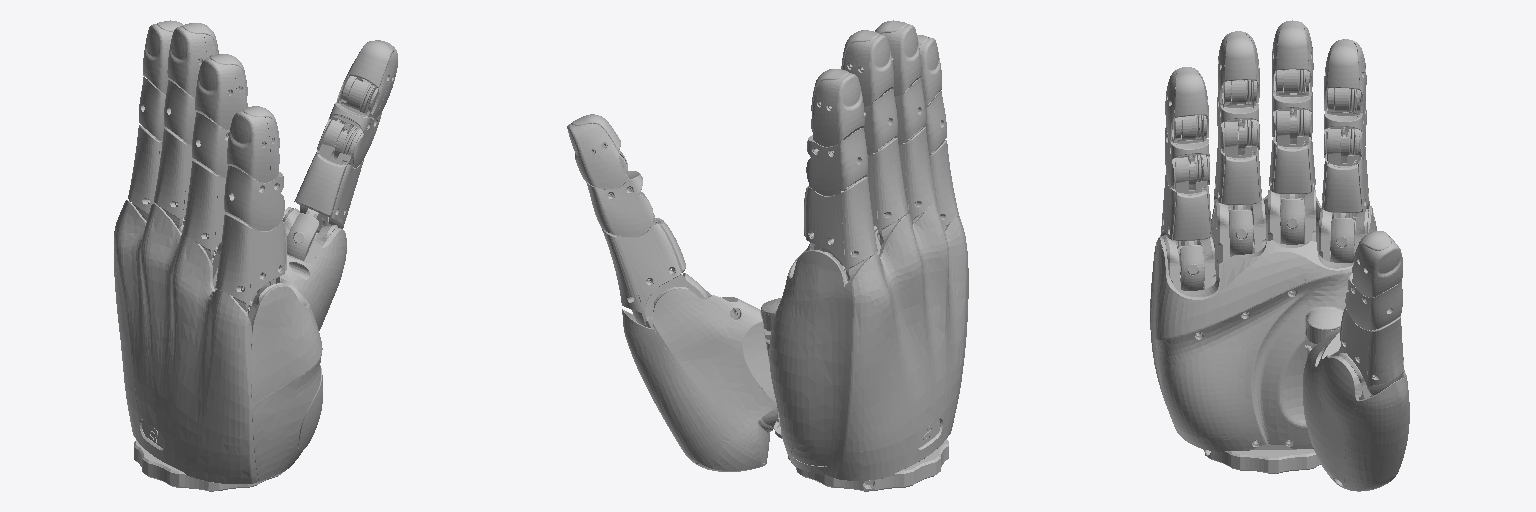
--- Facts derived from the render (not from the file) ---
Views: 3 orthographic renders of the robot side by side, from view 1: azimuth 30°, elevation 25°; view 2: azimuth 150°, elevation 25°; view 3: azimuth 270°, elevation 25°.
Robot: Right-adof — 22 links, 21 joints (21 revolute); root link base_link; default pose: every joint at zero.
Links seen in each view (by area): view 1: base_link, Thumb-Phalanx-Yaw, Pinky-Phalanx-Yaw, Thumb-Rot, Pinky-Distal-Phalanx, Ring-Distal-Phalanx, Ring-Phalanx-Yaw, Pinky-Middle-Phalanx, Thumb-Distal-Phalanx, Middle-Phalanx-Yaw, Middle-Distal-Phalanx, Thumb-Middle-Phalanx (+5 smaller); view 2: base_link, Thumb-Rot, Thumb-Phalanx-Yaw, Index-Phalanx-Yaw, Index-Distal-Phalanx, Thumb-Distal-Phalanx, Index-Middle-Phalanx, Thumb-Middle-Phalanx, Middle-Phalanx-Yaw, Middle-Distal-Phalanx, Ring-Phalanx-Yaw, Ring-Distal-Phalanx (+5 smaller); view 3: base_link, Thumb-Rot, Pinky-Phalanx-Yaw, Index-Phalanx-Yaw, Ring-Phalanx-Yaw, Middle-Phalanx-Yaw, Thumb-Phalanx-Yaw, Thumb-Distal-Phalanx, Pinky-Distal-Phalanx, Index-Distal-Phalanx, Ring-Distal-Phalanx, Middle-Distal-Phalanx (+5 smaller).
Link boxes in pixels (box(x1,y1,x2,y2)): base_link: box(114, 200, 322, 491); Thumb-Phalanx-Yaw: box(287, 119, 363, 260); Pinky-Phalanx-Yaw: box(215, 214, 286, 314); Thumb-Rot: box(282, 207, 346, 330); Pinky-Distal-Phalanx: box(227, 106, 279, 182); Ring-Distal-Phalanx: box(195, 54, 247, 129); Ring-Phalanx-Yaw: box(182, 161, 225, 262); Pinky-Middle-Phalanx: box(224, 154, 284, 230); Thumb-Distal-Phalanx: box(337, 40, 397, 118); Middle-Phalanx-Yaw: box(154, 128, 194, 232); Middle-Distal-Phalanx: box(167, 23, 218, 97); Thumb-Middle-Phalanx: box(317, 76, 381, 167); base_link: box(761, 202, 968, 491); Thumb-Rot: box(622, 287, 777, 471); Thumb-Phalanx-Yaw: box(602, 192, 708, 328); Index-Phalanx-Yaw: box(804, 177, 877, 280); Index-Distal-Phalanx: box(811, 69, 864, 146); Thumb-Distal-Phalanx: box(567, 114, 627, 188); Index-Middle-Phalanx: box(806, 117, 867, 195); Thumb-Middle-Phalanx: box(586, 154, 652, 236); Middle-Phalanx-Yaw: box(866, 138, 907, 245); Middle-Distal-Phalanx: box(841, 30, 893, 106); Ring-Phalanx-Yaw: box(899, 127, 936, 223); Ring-Distal-Phalanx: box(875, 20, 921, 96); base_link: box(1150, 190, 1376, 473); Thumb-Rot: box(1303, 331, 1409, 491); Pinky-Phalanx-Yaw: box(1161, 155, 1211, 290); Index-Phalanx-Yaw: box(1322, 128, 1369, 262); Ring-Phalanx-Yaw: box(1214, 120, 1261, 256); Middle-Phalanx-Yaw: box(1269, 110, 1315, 244); Thumb-Phalanx-Yaw: box(1338, 307, 1403, 396); Thumb-Distal-Phalanx: box(1352, 231, 1402, 297); Pinky-Distal-Phalanx: box(1165, 67, 1208, 140); Index-Distal-Phalanx: box(1324, 39, 1366, 112); Ring-Distal-Phalanx: box(1218, 31, 1259, 104); Middle-Distal-Phalanx: box(1272, 20, 1313, 93).
Bounding box of the posed robot: 0.1752 × 0.133 × 0.2333 m (x, y, z).
Meshes: 22 distinct files referenced, 22 mesh visuals loaded (22 binary STL).

robot.urdf — Right-adof:
<?xml version="1.0" encoding="utf-8"?>
<!-- This URDF was automatically created by SolidWorks to URDF Exporter! Originally created by Stephen Brawner ([email redacted]) 
     Commit Version: 1.6.0-4-g7f85cfe  Build Version: 1.6.7995.38578
     For more information, please see http://wiki.ros.org/sw_urdf_exporter -->
<robot
  name="Right-adof">
  <link
    name="base_link">
    <inertial>
      <origin
        xyz="0.00258698563808498 -0.00199497179345493 0.0632427267977244"
        rpy="0 0 0" />
      <mass
        value="0.794027337290085" />
      <inertia
        ixx="0.00023852508156559"
        ixy="-2.36782247505486E-06"
        ixz="-7.0660340552793E-07"
        iyy="0.000212785409342978"
        iyz="-5.90767168489478E-06"
        izz="0.000172371693809709" />
    </inertial>
    <visual>
      <origin
        xyz="0 0 0"
        rpy="0 0 0" />
      <geometry>
        <mesh
          filename="./meshes/base_link.STL" />
      </geometry>
      <material
        name="">
        <color
          rgba="0.752941176470588 0.752941176470588 0.752941176470588 1" />
      </material>
    </visual>
    <collision>
      <origin
        xyz="0 0 0"
        rpy="0 0 0" />
      <geometry>
        <mesh
          filename="./meshes/collmesh-base_link.STL" />
      </geometry>
    </collision>
  </link>
  <link
    name="Thumb-Rot">
    <inertial>
      <origin
        xyz="0.0362259022217715 -0.00690673829109498 -0.0350917250181576"
        rpy="0 0 0" />
      <mass
        value="0.17876148941323" />
      <inertia
        ixx="3.57678130784331E-05"
        ixy="2.4495619065687E-06"
        ixz="-7.82178487246863E-06"
        iyy="4.81934419786318E-05"
        iyz="4.12945852469555E-06"
        izz="2.15278770113943E-05" />
    </inertial>
    <visual>
      <origin
        xyz="0 0 0"
        rpy="0 0 0" />
      <geometry>
        <mesh
          filename="./meshes/Thumb-Rot.STL" />
      </geometry>
      <material
        name="">
        <color
          rgba="0.752941176470588 0.752941176470588 0.752941176470588 1" />
      </material>
    </visual>
    <collision>
      <origin
        xyz="0 0 0"
        rpy="0 0 0" />
      <geometry>
        <mesh
          filename="./meshes/collmesh-thumbrot.STL" />
      </geometry>
    </collision>
  </link>
  <joint
    name="Thumb-Rot"
    type="revolute">
    <origin
      xyz="0.0338061343879918 0.0271743520289371 0.082136655361192"
      rpy="0.073732554494852 0.083913684942673 0.658698050404196" />
    <parent
      link="base_link" />
    <child
      link="Thumb-Rot" />
    <axis
      xyz="0 0 -1" />
    <limit
      lower="-0.349"
      upper="0.349"
      effort="0"
      velocity="0" />
  </joint>
  <link
    name="Thumb-Phalanx-Pitch">
    <inertial>
      <origin
        xyz="-0.0010776667786008 -0.000593700561682932 -0.000857994147536147"
        rpy="0 0 0" />
      <mass
        value="1.55508836352695E-08" />
      <inertia
        ixx="1.39957952717425E-14"
        ixy="1.18329135783152E-30"
        ixz="3.94430452610506E-31"
        iyy="1.39957952717425E-14"
        iyz="-5.91645678915759E-31"
        izz="1.39957952717425E-14" />
    </inertial>
    <visual>
      <origin
        xyz="0 0 0"
        rpy="0 0 0" />
      <geometry>
        <mesh
          filename="./meshes/Thumb-Phalanx-Pitch.STL" />
      </geometry>
      <material
        name="">
        <color
          rgba="1 1 1 1" />
      </material>
    </visual>
    <collision>
      <origin
        xyz="0 0 0"
        rpy="0 0 0" />
      <geometry>
        <mesh
          filename="./meshes/Thumb-Phalanx-Pitch.STL" />
      </geometry>
    </collision>
  </link>
  <joint
    name="Thumb-MCP-Pitch"
    type="revolute">
    <origin
      xyz="0.049572 -0.012484 -0.0021025"
      rpy="2.0613 -1.2105 -0.46347" />
    <parent
      link="Thumb-Rot" />
    <child
      link="Thumb-Phalanx-Pitch" />
    <axis
      xyz="0 0 1" />
    <limit
      lower="-0.069"
      upper="1.3962"
      effort="0"
      velocity="0" />
  </joint>
  <link
    name="Thumb-Phalanx-Yaw">
    <inertial>
      <origin
        xyz="0.02335401156553 -0.000259269796205584 0.00171968919059736"
        rpy="0 0 0" />
      <mass
        value="0.0676729313596754" />
      <inertia
        ixx="2.88852544986076E-06"
        ixy="-1.10457937462574E-07"
        ixz="-1.22561518728436E-06"
        iyy="7.04210988001265E-06"
        iyz="-3.63895328946441E-08"
        izz="5.79142973538723E-06" />
    </inertial>
    <visual>
      <origin
        xyz="0 0 0"
        rpy="0 0 0" />
      <geometry>
        <mesh
          filename="./meshes/Thumb-Phalanx-Yaw.STL" />
      </geometry>
      <material
        name="">
        <color
          rgba="0.752941176470588 0.752941176470588 0.752941176470588 1" />
      </material>
    </visual>
    <collision>
      <origin
        xyz="0 0 0"
        rpy="0 0 0" />
      <geometry>
        <mesh
          filename="./meshes/collmesh-PIP.STL" />
      </geometry>
    </collision>
  </link>
  <joint
    name="thumb-MCP-Yaw"
    type="revolute">
    <origin
      xyz="0 0 0"
      rpy="-1.5708 0 -0.17818" />
    <parent
      link="Thumb-Phalanx-Pitch" />
    <child
      link="Thumb-Phalanx-Yaw" />
    <axis
      xyz="0 0 -1" />
    <limit
      lower="-0.2618"
      upper="0.2618"
      effort="0"
      velocity="0" />
  </joint>
  <link
    name="Thumb-Middle-Phalanx">
    <inertial>
      <origin
        xyz="0.00775983339454298 -0.00177735605207793 -0.000423155647114443"
        rpy="0 0 0" />
      <mass
        value="0.0295434522184787" />
      <inertia
        ixx="7.87111612790542E-07"
        ixy="-4.35643368516727E-08"
        ixz="-8.33571397136527E-09"
        iyy="1.55305360642924E-06"
        iyz="2.17291734468547E-09"
        izz="1.86701461118711E-06" />
    </inertial>
    <visual>
      <origin
        xyz="0 0 0"
        rpy="0 0 0" />
      <geometry>
        <mesh
          filename="./meshes/Thumb-Middle-Phalanx.STL" />
      </geometry>
      <material
        name="">
        <color
          rgba="0.752941176470588 0.752941176470588 0.752941176470588 1" />
      </material>
    </visual>
    <collision>
      <origin
        xyz="0 0 0"
        rpy="0 0 0" />
      <geometry>
        <mesh
          filename="./meshes/collmesh-MIP.STL" />
      </geometry>
    </collision>
  </link>
  <joint
    name="Thumb-PIP"
    type="revolute">
    <origin
      xyz="0.053177 0 0.0095766"
      rpy="1.5708 -0.17818 0" />
    <parent
      link="Thumb-Phalanx-Yaw" />
    <child
      link="Thumb-Middle-Phalanx" />
    <axis
      xyz="0 0 1" />
    <limit
      lower="-0.069"
      upper="1.57"
      effort="0"
      velocity="0" />

  </joint>
  <link
    name="Thumb-Distal-Phalanx">
    <inertial>
      <origin
        xyz="0.00742380886385827 -0.00115469947426725 0.00144535113457344"
        rpy="0 0 0" />
      <mass
        value="0.0226879675459151" />
      <inertia
        ixx="8.52555281418451E-07"
        ixy="6.05686247442616E-08"
        ixz="9.11727439932054E-09"
        iyy="1.45520528850912E-06"
        iyz="5.41279890274371E-09"
        izz="1.29309405535336E-06" />
    </inertial>
    <visual>
      <origin
        xyz="0 0 0"
        rpy="0 0 0" />
      <geometry>
        <mesh
          filename="./meshes/Thumb-Distal-Phalanx.STL" />
      </geometry>
      <material
        name="">
        <color
          rgba="0.752941176470588 0.752941176470588 0.752941176470588 1" />
      </material>
    </visual>
    <collision>
      <origin
        xyz="0 0 0"
        rpy="0 0 0" />
      <geometry>
        <mesh
          filename="./meshes/collmesh-DIP.STL" />
      </geometry>
    </collision>
  </link>
  <joint
    name="Thumb-DIP"
    type="revolute">
    <origin
      xyz="0.025 0 0"
      rpy="0 0 0" />
    <parent
      link="Thumb-Middle-Phalanx" />
    <child
      link="Thumb-Distal-Phalanx" />
    <axis
      xyz="0 0 1" />
    <limit
      lower="0"
      upper="1.57"
      effort="0"
      velocity="0" />
    <mimic
      joint="Thumb-PIP"
      multiplier="1"
      offset="0" />
  </joint>
  <link
    name="Index-Phalanx-Pitch">
    <inertial>
      <origin
        xyz="-0.0011468348751503 0.000439439856421123 0.000861198224473801"
        rpy="0 0 0" />
      <mass
        value="1.55508836352695E-08" />
      <inertia
        ixx="1.39957952717425E-14"
        ixy="-9.04120459675423E-38"
        ixz="-1.50463276905253E-36"
        iyy="1.39957952717425E-14"
        iyz="3.01533168376005E-33"
        izz="1.39957952717425E-14" />
    </inertial>
    <visual>
      <origin
        xyz="0 0 0"
        rpy="0 0 0" />
      <geometry>
        <mesh
          filename="./meshes/Index-Phalanx-Pitch.STL" />
      </geometry>
      <material
        name="">
        <color
          rgba="1 1 1 1" />
      </material>
    </visual>
    <collision>
      <origin
        xyz="0 0 0"
        rpy="0 0 0" />
      <geometry>
        <mesh
          filename="./meshes/Index-Phalanx-Pitch.STL" />
      </geometry>
    </collision>
  </link>
  <joint
    name="Index-MCP-Pitch"
    type="revolute">
    <origin
      xyz="-0.0023244 0.036779 0.11154"
      rpy="-3.1416 -1.5708 1.4835" />
    <parent
      link="base_link" />
    <child
      link="Index-Phalanx-Pitch" />
    <axis
      xyz="0 0 1" />
    <limit
      lower="-0.069"
      upper="1.3962"
      effort="0"
      velocity="0" />
  </joint>
  <link
    name="Index-Phalanx-Yaw">
    <inertial>
      <origin
        xyz="0.0233539169634497 -0.000259280489943343 0.00171960532998343"
        rpy="0 0 0" />
      <mass
        value="0.0676725904804088" />
      <inertia
        ixx="2.88855337708057E-06"
        ixy="-1.10504326918954E-07"
        ixz="-1.22562290841457E-06"
        iyy="7.04202482624053E-06"
        iyz="-3.64093435587561E-08"
        izz="5.79133455212591E-06" />
    </inertial>
    <visual>
      <origin
        xyz="0 0 0"
        rpy="0 0 0" />
      <geometry>
        <mesh
          filename="./meshes/Index-Phalanx-Yaw.STL" />
      </geometry>
      <material
        name="">
        <color
          rgba="0.752941176470588 0.752941176470588 0.752941176470588 1" />
      </material>
    </visual>
    <collision>
      <origin
        xyz="0 0 0"
        rpy="0 0 0" />
      <geometry>
        <mesh
          filename="./meshes/collmesh-PIP.STL" />
      </geometry>
    </collision>
  </link>
  <joint
    name="Index-MCP-Yaw"
    type="revolute">
    <origin
      xyz="0 0 0"
      rpy="-1.5708 0 -0.17818" />
    <parent
      link="Index-Phalanx-Pitch" />
    <child
      link="Index-Phalanx-Yaw" />
    <axis
      xyz="0 0 -1" />
    <limit
      lower="-0.2618"
      upper="0.2618"
      effort="0"
      velocity="0" />
  </joint>
  <link
    name="Index-Middle-Phalanx">
    <inertial>
      <origin
        xyz="0.00775966689669547 -0.001777260086818 -0.0004231505550681"
        rpy="0 0 0" />
      <mass
        value="0.0295437426049609" />
      <inertia
        ixx="7.87137292286306E-07"
        ixy="-4.35356773513598E-08"
        ixz="-8.33084894658267E-09"
        iyy="1.55304024465119E-06"
        iyz="2.16990096204593E-09"
        izz="1.86703702365258E-06" />
    </inertial>
    <visual>
      <origin
        xyz="0 0 0"
        rpy="0 0 0" />
      <geometry>
        <mesh
          filename="./meshes/Index-Middle-Phalanx.STL" />
      </geometry>
      <material
        name="">
        <color
          rgba="0.752941176470588 0.752941176470588 0.752941176470588 1" />
      </material>
    </visual>
    <collision>
      <origin
        xyz="0 0 0"
        rpy="0 0 0" />
      <geometry>
        <mesh
          filename="./meshes/collmesh-MIP.STL" />
      </geometry>
    </collision>
  </link>
  <joint
    name="Index-PIP"
    type="revolute">
    <origin
      xyz="0.053177 0 0.0095766"
      rpy="1.5708 -0.17818 0" />
    <parent
      link="Index-Phalanx-Yaw" />
    <child
      link="Index-Middle-Phalanx" />
    <axis
      xyz="0 0 1" />
    <limit
      lower="-0.069"
      upper="1.57"
      effort="0"
      velocity="0" />

  </joint>
  <link
    name="Index-Distal-Phalanx">
    <inertial>
      <origin
        xyz="0.00742355756698329 -0.00115462235051548 0.00144525557620614"
        rpy="0 0 0" />
      <mass
        value="0.0226873332608833" />
      <inertia
        ixx="8.52513703670924E-07"
        ixy="6.05990109930476E-08"
        ixz="9.14009252235267E-09"
        iyy="1.45515970157261E-06"
        iyz="5.42006868813326E-09"
        izz="1.29304743029967E-06" />
    </inertial>
    <visual>
      <origin
        xyz="0 0 0"
        rpy="0 0 0" />
      <geometry>
        <mesh
          filename="./meshes/Index-Distal-Phalanx.STL" />
      </geometry>
      <material
        name="">
        <color
          rgba="0.752941176470588 0.752941176470588 0.752941176470588 1" />
      </material>
    </visual>
    <collision>
      <origin
        xyz="0 0 0"
        rpy="0 0 0" />
      <geometry>
        <mesh
          filename="./meshes/collmesh-DIP.STL" />
      </geometry>
    </collision>
  </link>
  <joint
    name="Index-DIP"
    type="revolute">
    <origin
      xyz="0.025 0 0"
      rpy="0 0 0" />
    <parent
      link="Index-Middle-Phalanx" />
    <child
      link="Index-Distal-Phalanx" />
    <axis
      xyz="0 0 1" />
    <limit
      lower="0"
      upper="1.57"
      effort="0"
      velocity="0" />
    <mimic
      joint="Index-PIP"
      multiplier="1"
      offset="0" />
  </joint>
  <link
    name="Middle-Phalanx-Pitch">
    <inertial>
      <origin
        xyz="-0.000950356362261137 -0.00101087852167877 -0.000570041576851832"
        rpy="0 0 0" />
      <mass
        value="1.55508836352695E-08" />
      <inertia
        ixx="1.39957952717425E-14"
        ixy="-2.29588740394978E-41"
        ixz="0"
        iyy="1.39957952717425E-14"
        iyz="2.2990052930329E-46"
        izz="1.39957952717425E-14" />
    </inertial>
    <visual>
      <origin
        xyz="0 0 0"
        rpy="0 0 0" />
      <geometry>
        <mesh
          filename="./meshes/Middle-Phalanx-Pitch.STL" />
      </geometry>
      <material
        name="">
        <color
          rgba="1 1 1 1" />
      </material>
    </visual>
    <collision>
      <origin
        xyz="0 0 0"
        rpy="0 0 0" />
      <geometry>
        <mesh
          filename="./meshes/Middle-Phalanx-Pitch.STL" />
      </geometry>
    </collision>
  </link>
  <joint
    name="Middle-MCP-Pitch"
    type="revolute">
    <origin
      xyz="-0.0035 0.01 0.12154"
      rpy="-3.1416 -1.5708 1.5708" />
    <parent
      link="base_link" />
    <child
      link="Middle-Phalanx-Pitch" />
    <axis
      xyz="0 0 1" />
    <limit
      lower="-0.069"
      upper="1.3962"
      effort="0"
      velocity="0" />
  </joint>
  <link
    name="Middle-Phalanx-Yaw">
    <inertial>
      <origin
        xyz="0.0233539044002138 -0.000259281827944952 0.0017195479757048"
        rpy="0 0 0" />
      <mass
        value="0.067672271536478" />
      <inertia
        ixx="2.8885340151204E-06"
        ixy="-1.10498302860207E-07"
        ixz="-1.22562063376638E-06"
        iyy="7.0419989045601E-06"
        iyz="-3.64051092528524E-08"
        izz="5.79129496998275E-06" />
    </inertial>
    <visual>
      <origin
        xyz="0 0 0"
        rpy="0 0 0" />
      <geometry>
        <mesh
          filename="./meshes/Middle-Phalanx-Yaw.STL" />
      </geometry>
      <material
        name="">
        <color
          rgba="0.752941176470588 0.752941176470588 0.752941176470588 1" />
      </material>
    </visual>
    <collision>
      <origin
        xyz="0 0 0"
        rpy="0 0 0" />
      <geometry>
        <mesh
          filename="./meshes/collmesh-PIP.STL" />
      </geometry>
    </collision>
  </link>
  <joint
    name="Middle-MCP_Yaw"
    type="revolute">
    <origin
      xyz="0 0 0"
      rpy="-1.5708 0 -0.17818" />
    <parent
      link="Middle-Phalanx-Pitch" />
    <child
      link="Middle-Phalanx-Yaw" />
    <axis
      xyz="0 0 -1" />
    <limit
      lower="-0.2618"
      upper="0.2618"
      effort="0"
      velocity="0" />
  </joint>
  <link
    name="Middle-Middle-Phalanx">
    <inertial>
      <origin
        xyz="0.00775966497189395 -0.00177726929484071 -0.000423135082260318"
        rpy="0 0 0" />
      <mass
        value="0.0295437498046179" />
      <inertia
        ixx="7.87140172668585E-07"
        ixy="-4.35377294810937E-08"
        ixz="-8.32946983961318E-09"
        iyy="1.55303749219121E-06"
        iyz="2.16981536787822E-09"
        izz="1.86703412619715E-06" />
    </inertial>
    <visual>
      <origin
        xyz="0 0 0"
        rpy="0 0 0" />
      <geometry>
        <mesh
          filename="./meshes/Middle-Middle-Phalanx.STL" />
      </geometry>
      <material
        name="">
        <color
          rgba="0.752941176470588 0.752941176470588 0.752941176470588 1" />
      </material>
    </visual>
    <collision>
      <origin
        xyz="0 0 0"
        rpy="0 0 0" />
      <geometry>
        <mesh
          filename="./meshes/collmesh-MIP.STL" />
      </geometry>
    </collision>
  </link>
  <joint
    name="Middle-PIP"
    type="revolute">
    <origin
      xyz="0.053177 0 0.0095766"
      rpy="1.5708 -0.17818 0" />
    <parent
      link="Middle-Phalanx-Yaw" />
    <child
      link="Middle-Middle-Phalanx" />
    <axis
      xyz="0 0 1" />
    <limit
      lower="-0.069"
      upper="1.57"
      effort="0"
      velocity="0" />

  </joint>
  <link
    name="Middle-Distal-Phalanx">
    <inertial>
      <origin
        xyz="0.00742355651687279 -0.00115461800158003 0.00144525702064901"
        rpy="0 0 0" />
      <mass
        value="0.0226873238178525" />
      <inertia
        ixx="8.52513801891724E-07"
        ixy="6.05987390554793E-08"
        ixz="9.13919158436638E-09"
        iyy="1.45515800472468E-06"
        iyz="5.41965112455546E-09"
        izz="1.29304612383686E-06" />
    </inertial>
    <visual>
      <origin
        xyz="0 0 0"
        rpy="0 0 0" />
      <geometry>
        <mesh
          filename="./meshes/Middle-Distal-Phalanx.STL" />
      </geometry>
      <material
        name="">
        <color
          rgba="0.752941176470588 0.752941176470588 0.752941176470588 1" />
      </material>
    </visual>
    <collision>
      <origin
        xyz="0 0 0"
        rpy="0 0 0" />
      <geometry>
        <mesh
          filename="./meshes/collmesh-DIP.STL" />
      </geometry>
    </collision>
  </link>
  <joint
    name="Middle-DIP"
    type="revolute">
    <origin
      xyz="0.025 0 0"
      rpy="0 0 0" />
    <parent
      link="Middle-Middle-Phalanx" />
    <child
      link="Middle-Distal-Phalanx" />
    <axis
      xyz="0 0 1" />
    <limit
      lower="0"
      upper="1.57"
      effort="0"
      velocity="0" />
    <mimic
      joint="Middle-PIP"
      multiplier="1"
      offset="0" />
  </joint>
  <link
    name="Ring-Phalanx-Pitch">
    <inertial>
      <origin
        xyz="-4.79061235125755E-14 -5.32985114376494E-14 -2.41508202325491E-14"
        rpy="0 0 0" />
      <mass
        value="1.55508836352695E-08" />
      <inertia
        ixx="1.39957952717425E-14"
        ixy="-5.73971850987445E-42"
        ixz="-1.43492962746861E-42"
        iyy="1.39957952717425E-14"
        iyz="4.84879113686242E-38"
        izz="1.39957952717425E-14" />
    </inertial>
    <visual>
      <origin
        xyz="0 0 0"
        rpy="0 0 0" />
      <geometry>
        <mesh
          filename="./meshes/Ring-Phalanx-Pitch.STL" />
      </geometry>
      <material
        name="">
        <color
          rgba="1 1 1 1" />
      </material>
    </visual>
    <collision>
      <origin
        xyz="0 0 0"
        rpy="0 0 0" />
      <geometry>
        <mesh
          filename="./meshes/Ring-Phalanx-Pitch.STL" />
      </geometry>
    </collision>
  </link>
  <joint
    name="Ring-MCP-Pitch"
    type="revolute">
    <origin
      xyz="-0.0033416 -0.017352 0.11559"
      rpy="1.6581 -1.5708 3.1415" />
    <parent
      link="base_link" />
    <child
      link="Ring-Phalanx-Pitch" />
    <axis
      xyz="0 0 1" />
    <limit
      lower="-0.069"
      upper="1.3962"
      effort="0"
      velocity="0" />
  </joint>
  <link
    name="Ring-Phalanx-Yaw">
    <inertial>
      <origin
        xyz="0.0233540055912604 -0.000259249616973278 0.00171971648537801"
        rpy="0 0 0" />
      <mass
        value="0.0676731295673537" />
      <inertia
        ixx="2.8885676446304E-06"
        ixy="-1.10469704071816E-07"
        ixz="-1.2256210791902E-06"
        iyy="7.04212459036369E-06"
        iyz="-3.64004474599379E-08"
        izz="5.79144881458059E-06" />
    </inertial>
    <visual>
      <origin
        xyz="0 0 0"
        rpy="0 0 0" />
      <geometry>
        <mesh
          filename="./meshes/Ring-Phalanx-Yaw.STL" />
      </geometry>
      <material
        name="">
        <color
          rgba="0.752941176470588 0.752941176470588 0.752941176470588 1" />
      </material>
    </visual>
    <collision>
      <origin
        xyz="0 0 0"
        rpy="0 0 0" />
      <geometry>
        <mesh
          filename="./meshes/collmesh-PIP.STL" />
      </geometry>
    </collision>
  </link>
  <joint
    name="Ring-MCP-Yaw"
    type="revolute">
    <origin
      xyz="0 0 0"
      rpy="-1.5708 0 -0.17818" />
    <parent
      link="Ring-Phalanx-Pitch" />
    <child
      link="Ring-Phalanx-Yaw" />
    <axis
      xyz="0 0 -1" />
    <limit
      lower="-0.2618"
      upper="0.2618"
      effort="0"
      velocity="0" />
  </joint>
  <link
    name="Ring-Middle-Phalanx">
    <inertial>
      <origin
        xyz="0.00775969060749859 -0.00177727757588702 -0.000423128797629541"
        rpy="0 0 0" />
      <mass
        value="0.0295436972476543" />
      <inertia
        ixx="7.87136350968363E-07"
        ixy="-4.35414478097199E-08"
        ixz="-8.33023027758888E-09"
        iyy="1.55303626616318E-06"
        iyz="2.17003517152085E-09"
        izz="1.86702954309458E-06" />
    </inertial>
    <visual>
      <origin
        xyz="0 0 0"
        rpy="0 0 0" />
      <geometry>
        <mesh
          filename="./meshes/Ring-Middle-Phalanx.STL" />
      </geometry>
      <material
        name="">
        <color
          rgba="0.752941176470588 0.752941176470588 0.752941176470588 1" />
      </material>
    </visual>
    <collision>
      <origin
        xyz="0 0 0"
        rpy="0 0 0" />
      <geometry>
        <mesh
          filename="./meshes/collmesh-MIP.STL" />
      </geometry>
    </collision>
  </link>
  <joint
    name="Ring-PIP"
    type="revolute">
    <origin
      xyz="0.053177 0 0.0095766"
      rpy="1.5708 -0.17818 0" />
    <parent
      link="Ring-Phalanx-Yaw" />
    <child
      link="Ring-Middle-Phalanx" />
    <axis
      xyz="0 0 1" />
    <limit
      lower="-0.069"
      upper="1.57"
      effort="0"
      velocity="0" />

  </joint>
  <link
    name="Ring-Distal-Phalanx">
    <inertial>
      <origin
        xyz="0.00742361804591329 -0.00115463738410255 0.00144524659503355"
        rpy="0 0 0" />
      <mass
        value="0.0226874248351122" />
      <inertia
        ixx="8.52515053691658E-07"
        ixy="6.05996881513648E-08"
        ixz="9.13938174151496E-09"
        iyy="1.45516482494217E-06"
        iyz="5.41936126808747E-09"
        izz="1.29305313919278E-06" />
    </inertial>
    <visual>
      <origin
        xyz="0 0 0"
        rpy="0 0 0" />
      <geometry>
        <mesh
          filename="./meshes/Ring-Distal-Phalanx.STL" />
      </geometry>
      <material
        name="">
        <color
          rgba="0.752941176470588 0.752941176470588 0.752941176470588 1" />
      </material>
    </visual>
    <collision>
      <origin
        xyz="0 0 0"
        rpy="0 0 0" />
      <geometry>
        <mesh
          filename="./meshes/collmesh-DIP.STL" />
      </geometry>
    </collision>
  </link>
  <joint
    name="Ring-DIP"
    type="revolute">
    <origin
      xyz="0.025 0 0"
      rpy="0 0 0" />
    <parent
      link="Ring-Middle-Phalanx" />
    <child
      link="Ring-Distal-Phalanx" />
    <axis
      xyz="0 0 1" />
    <limit
      lower="0"
      upper="1.57"
      effort="0"
      velocity="0" />
    <mimic
      joint="Ring-PIP"
      multiplier="1"
      offset="0" />
  </joint>
  <link
    name="Pinky-Phalanx-Pitch">
    <inertial>
      <origin
        xyz="-3.18495230189342E-14 -6.81191214546573E-14 9.92261828258734E-15"
        rpy="0 0 0" />
      <mass
        value="1.55508836352695E-08" />
      <inertia
        ixx="1.39957952717425E-14"
        ixy="-5.73971850987445E-42"
        ixz="-4.30478888240584E-42"
        iyy="1.39957952717425E-14"
        iyz="4.25244729128209E-38"
        izz="1.39957952717425E-14" />
    </inertial>
    <visual>
      <origin
        xyz="0 0 0"
        rpy="0 0 0" />
      <geometry>
        <mesh
          filename="./meshes/Pinky-Phalanx-Pitch.STL" />
      </geometry>
      <material
        name="">
        <color
          rgba="1 1 1 1" />
      </material>
    </visual>
    <collision>
      <origin
        xyz="0 0 0"
        rpy="0 0 0" />
      <geometry>
        <mesh
          filename="./meshes/Pinky-Phalanx-Pitch.STL" />
      </geometry>
    </collision>
  </link>
  <joint
    name="Pinky-MCP-Pitch"
    type="revolute">
    <origin
      xyz="-0.00018417 -0.043401 0.096914"
      rpy="1.7453 -1.5708 3.1415" />
    <parent
      link="base_link" />
    <child
      link="Pinky-Phalanx-Pitch" />
    <axis
      xyz="0 0 1" />
    <limit
      lower="-0.069"
      upper="1.3962"
      effort="0"
      velocity="0" />
  </joint>
  <link
    name="Pinky-Phalanx-Yaw">
    <inertial>
      <origin
        xyz="0.0233540299012642 -0.00025925114754765 0.00171972484801923"
        rpy="0 0 0" />
      <mass
        value="0.0676731644729424" />
      <inertia
        ixx="2.88856582382396E-06"
        ixy="-1.1046553976524E-07"
        ixz="-1.22562237017012E-06"
        iyy="7.04215561283472E-06"
        iyz="-3.63981228604324E-08"
        izz="5.79147612553507E-06" />
    </inertial>
    <visual>
      <origin
        xyz="0 0 0"
        rpy="0 0 0" />
      <geometry>
        <mesh
          filename="./meshes/Pinky-Phalanx-Yaw.STL" />
      </geometry>
      <material
        name="">
        <color
          rgba="0.752941176470588 0.752941176470588 0.752941176470588 1" />
      </material>
    </visual>
    <collision>
      <origin
        xyz="0 0 0"
        rpy="0 0 0" />
      <geometry>
        <mesh
          filename="./meshes/collmesh-PIP.STL" />
      </geometry>
    </collision>
  </link>
  <joint
    name="Pinky-MCP-Yaw"
    type="revolute">
    <origin
      xyz="0 0 0"
      rpy="-1.5708 0 -0.17818" />
    <parent
      link="Pinky-Phalanx-Pitch" />
    <child
      link="Pinky-Phalanx-Yaw" />
    <axis
      xyz="0 0 -1" />
    <limit
      lower="-0.2618"
      upper="0.2618"
      effort="0"
      velocity="0" />
  </joint>
  <link
    name="Pinky-Middle-Phalanx">
    <inertial>
      <origin
        xyz="0.00775972771546382 -0.00177729157075183 -0.000423127324487411"
        rpy="0 0 0" />
      <mass
        value="0.0295436695011796" />
      <inertia
        ixx="7.87128695688593E-07"
        ixy="-4.35451854451429E-08"
        ixz="-8.33225909070018E-09"
        iyy="1.55303989807732E-06"
        iyz="2.17086157445895E-09"
        izz="1.86702551864796E-06" />
    </inertial>
    <visual>
      <origin
        xyz="0 0 0"
        rpy="0 0 0" />
      <geometry>
        <mesh
          filename="./meshes/Pinky-Middle-Phalanx.STL" />
      </geometry>
      <material
        name="">
        <color
          rgba="0.752941176470588 0.752941176470588 0.752941176470588 1" />
      </material>
    </visual>
    <collision>
      <origin
        xyz="0 0 0"
        rpy="0 0 0" />
      <geometry>
        <mesh
          filename="./meshes/collmesh-MIP.STL" />
      </geometry>
    </collision>
  </link>
  <joint
    name="Pinky-PIP"
    type="revolute">
    <origin
      xyz="0.053177 0 0.0095766"
      rpy="1.5708 -0.17818 0" />
    <parent
      link="Pinky-Phalanx-Yaw" />
    <child
      link="Pinky-Middle-Phalanx" />
    <axis
      xyz="0 0 1" />
    <limit
      lower="-0.069"
      upper="1.57"
      effort="0"
      velocity="0" />

  </joint>
  <link
    name="Pinky-Distal-Phalanx">
    <inertial>
      <origin
        xyz="0.00742360529508823 -0.00115463810009383 0.00144524458785159"
        rpy="0 0 0" />
      <mass
        value="0.0226874214455186" />
      <inertia
        ixx="8.5251280096728E-07"
        ixy="6.0599723202101E-08"
        ixz="9.13900149224377E-09"
        iyy="1.45516276574439E-06"
        iyz="5.41781336644635E-09"
        izz="1.29304951123894E-06" />
    </inertial>
    <visual>
      <origin
        xyz="0 0 0"
        rpy="0 0 0" />
      <geometry>
        <mesh
          filename="./meshes/Pinky-Distal-Phalanx.STL" />
      </geometry>
      <material
        name="">
        <color
          rgba="0.752941176470588 0.752941176470588 0.752941176470588 1" />
      </material>
    </visual>
    <collision>
      <origin
        xyz="0 0 0"
        rpy="0 0 0" />
      <geometry>
        <mesh
          filename="./meshes/collmesh-DIP.STL" />
      </geometry>
    </collision>
  </link>
  <joint
    name="Pinky-DIP"
    type="revolute">
    <origin
      xyz="0.025 0 0"
      rpy="0 0 0" />
    <parent
      link="Pinky-Middle-Phalanx" />
    <child
      link="Pinky-Distal-Phalanx" />
    <axis
      xyz="0 0 1" />
    <limit
      lower="0"
      upper="1.57"
      effort="0"
      velocity="0" />
    <mimic
      joint="Pinky-PIP"
      multiplier="1"
      offset="0" />
  </joint>
</robot>
